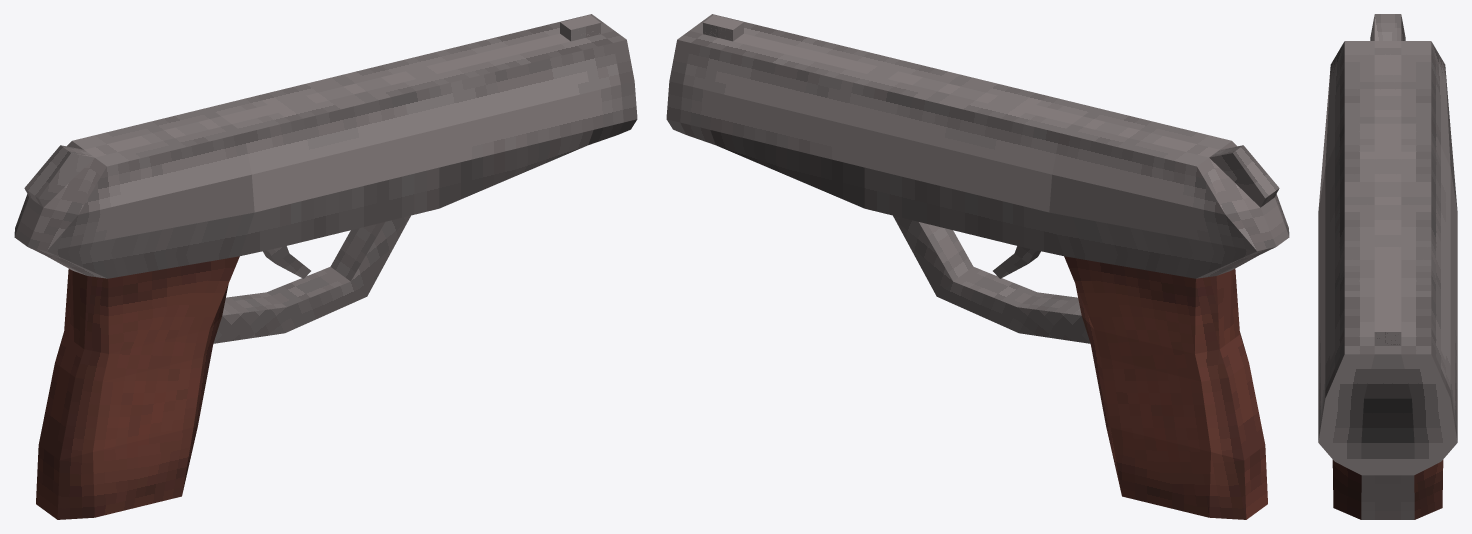
The picture shows the model from 3 angles, left to right: view 1: azimuth 30°, elevation 25°; view 2: azimuth 150°, elevation 25°; view 3: azimuth 270°, elevation 25°; orthographic projection. The views are drawn at different scales.
Visible parts, largest first — view 1: PM; view 2: PM; view 3: PM.
Boxes of the visible parts, left/top/right/bottom form: PM: left=14, top=14, right=637, bottom=519; PM: left=666, top=14, right=1289, bottom=519; PM: left=1318, top=14, right=1457, bottom=519.
Size of the model in its own units: 325 by 189 by 53.88.
Materials: 1 (1 with a texture image).
